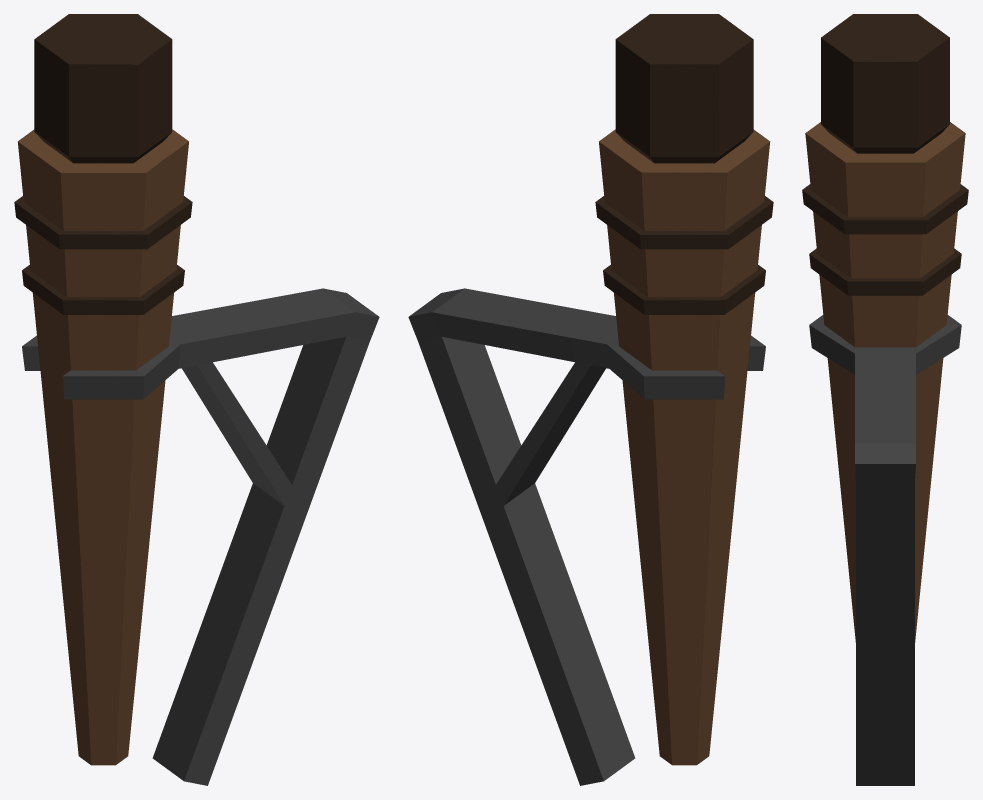
The model's file is Torch 1.fbx.
3 views of the same model, side by side, from view 1: azimuth 30°, elevation 25°; view 2: azimuth 150°, elevation 25°; view 3: azimuth 270°, elevation 25° (orthographic). The views are drawn at different scales.
Visible parts, largest first — view 1: Torch; view 2: Torch; view 3: Torch.
Boxes of the visible parts, x1,y1,x2,y2 form: Torch: (14, 14, 379, 785); Torch: (408, 14, 773, 785); Torch: (802, 14, 968, 785).
Bounding box in the file's own units: 109 × 241 × 51.46.
